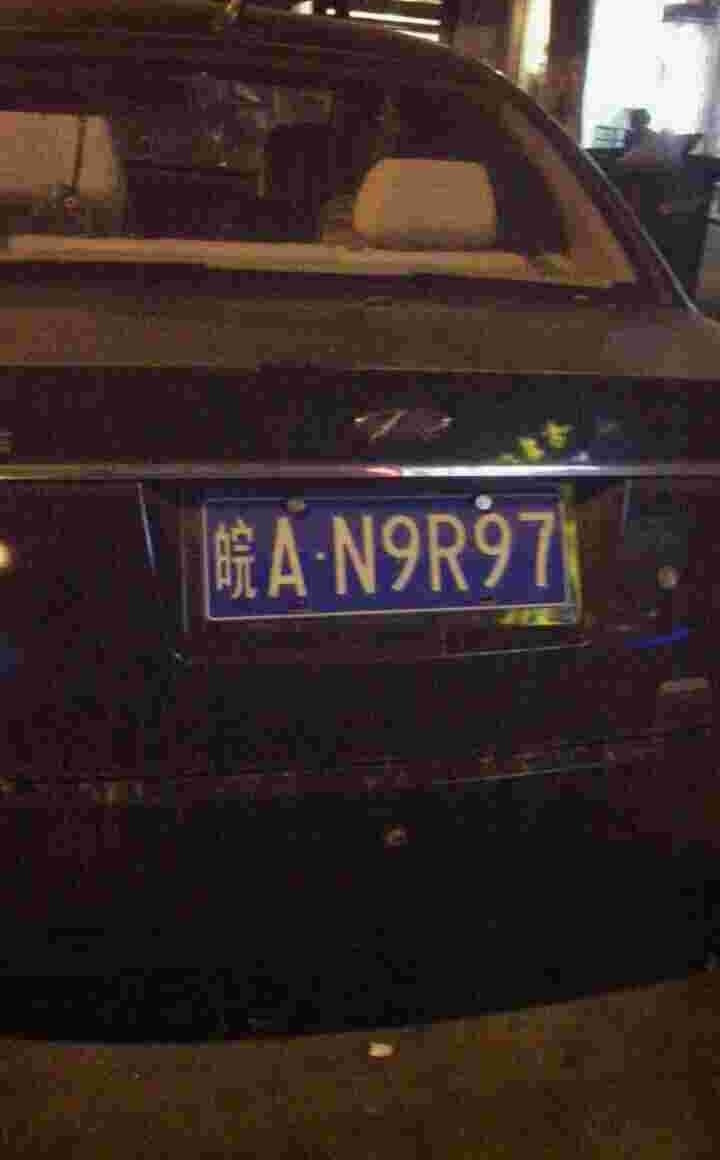license_plate: (209, 488, 574, 623)
